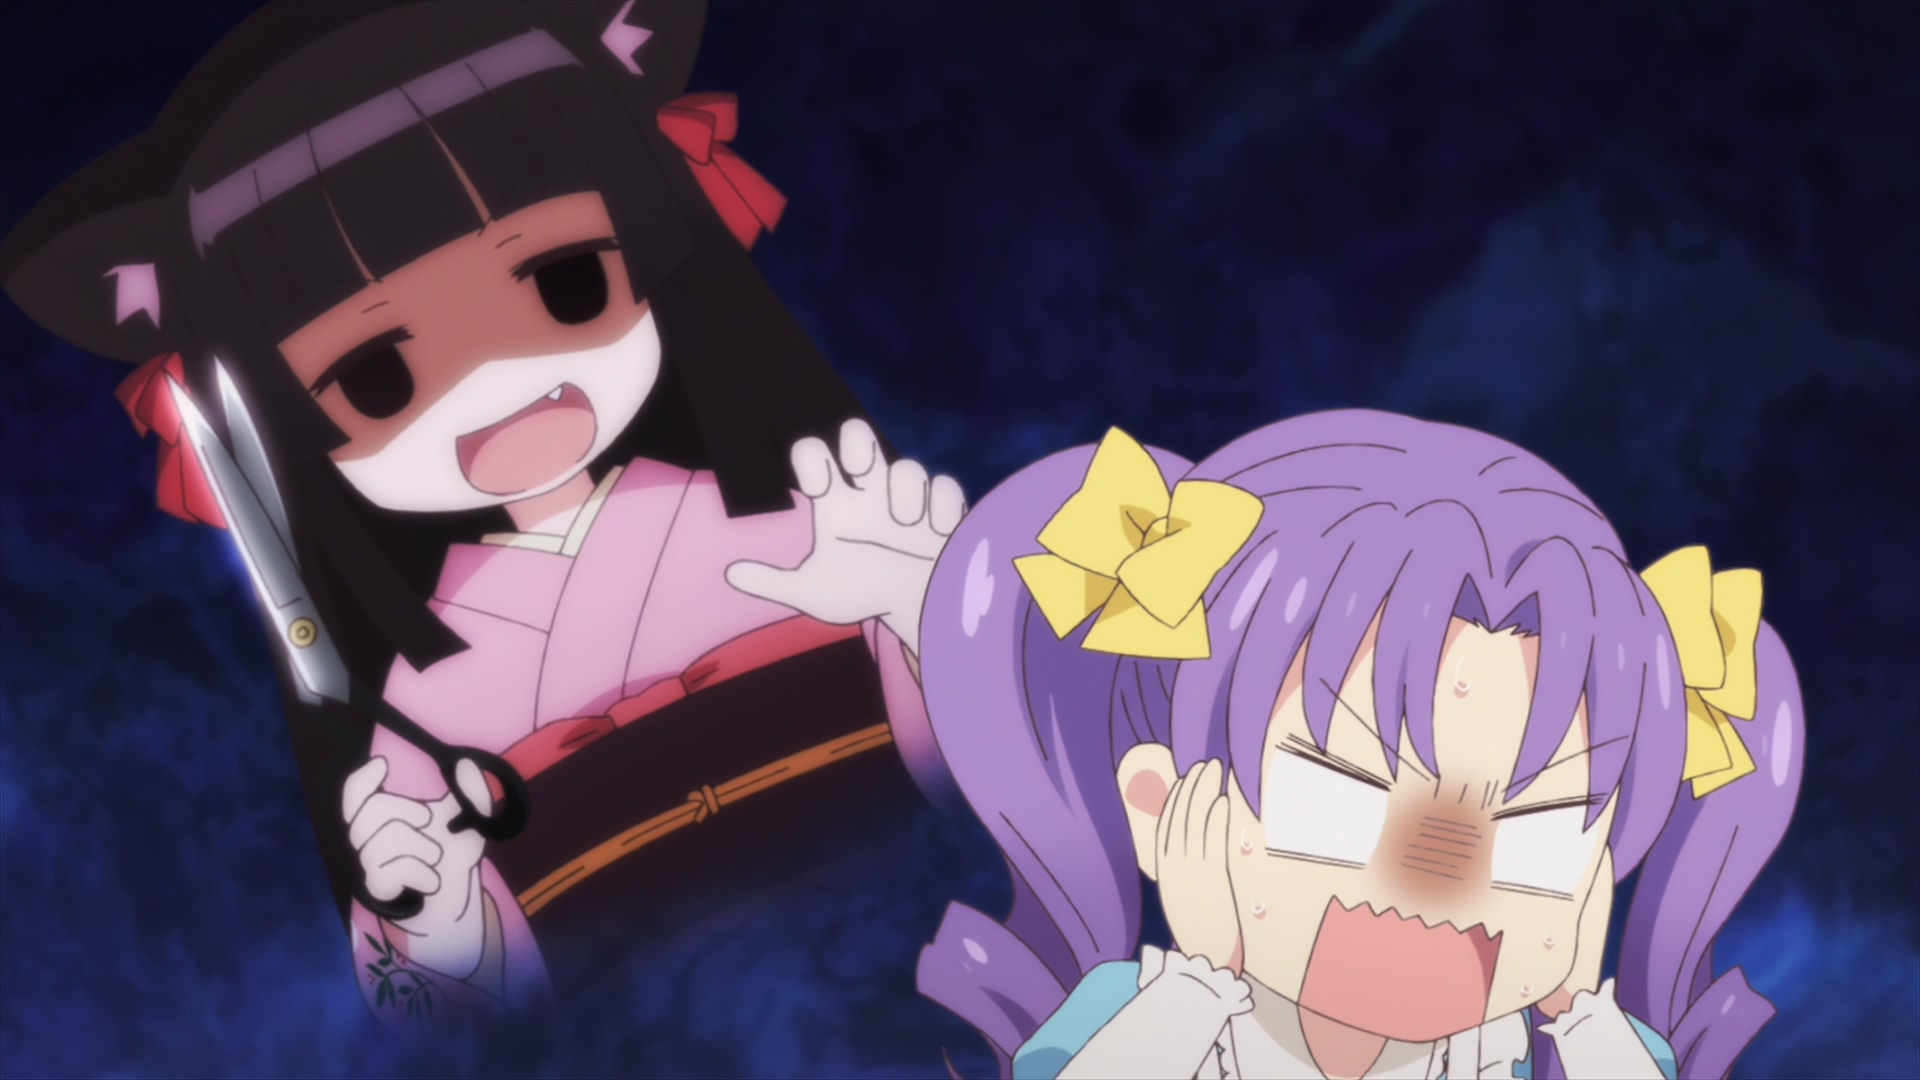樱: (1, 1, 971, 1038)
阿菊: (911, 406, 1805, 1080)
